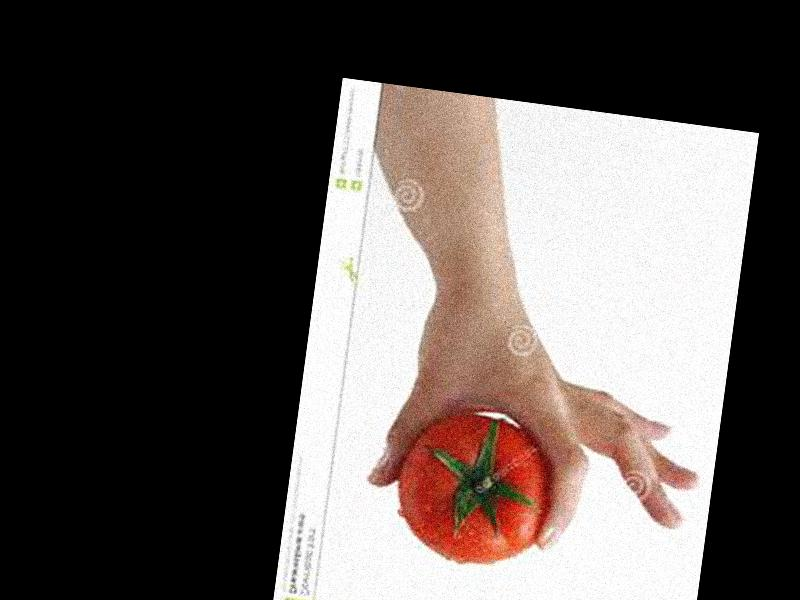Tomato: (389, 405, 560, 573)
